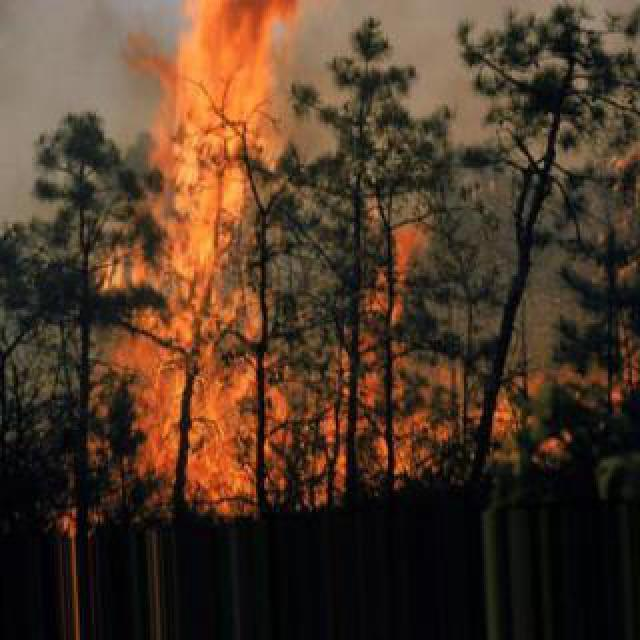Fire: (148, 0, 311, 516)
